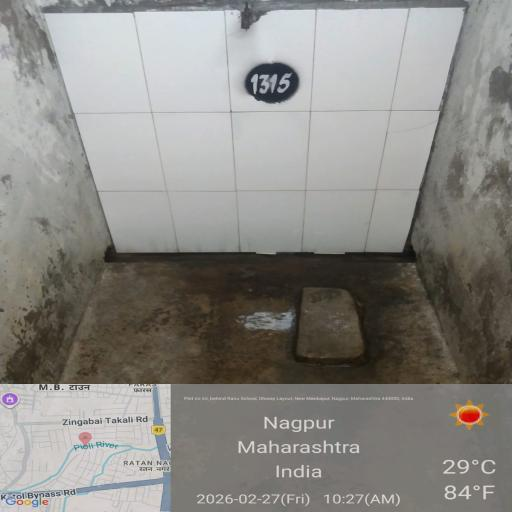clean_floor: (57, 32, 422, 240)
dirty_floor: (76, 257, 450, 386), (408, 66, 512, 346)
partial_dirty_floor: (0, 238, 90, 376)
